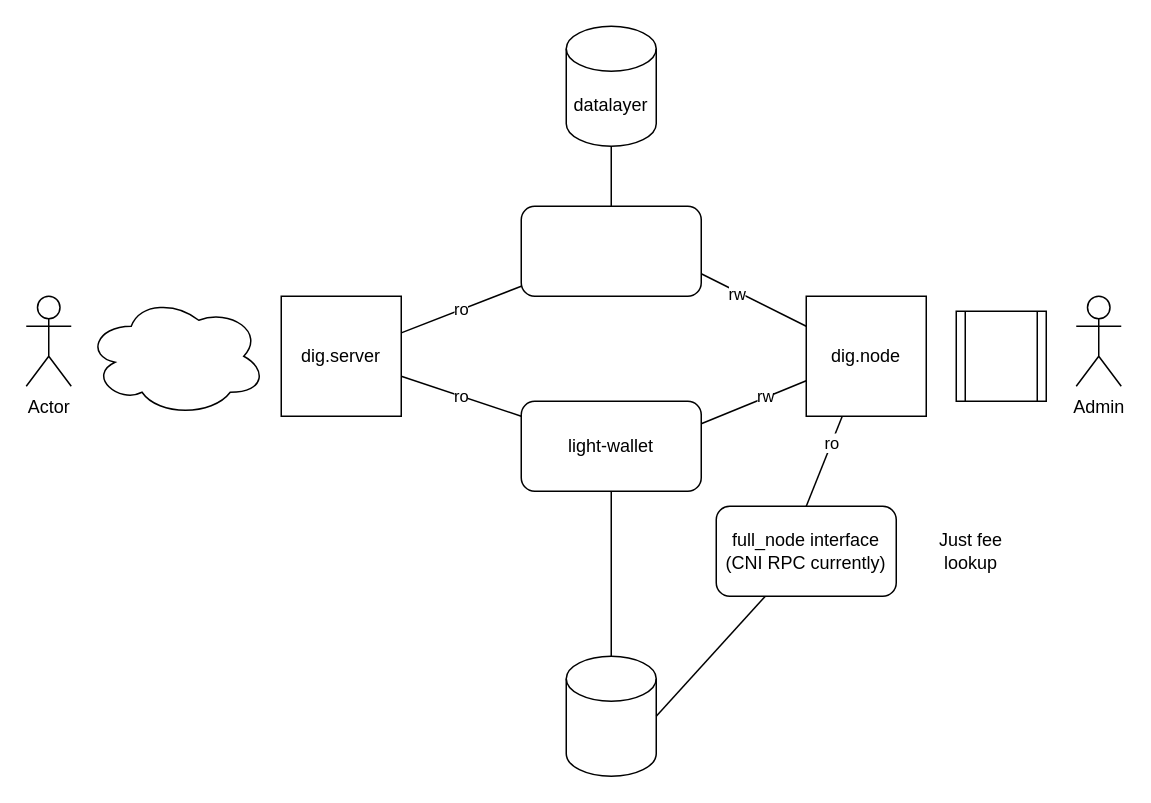
The diagram is 1151 pixels wide and 803 high, and some of its shapes have lost their labels. Each missing label, with the box of its shape:
datalayer-interface (CNI RPC currently): (520, 205, 701, 296)
fullnode: (565, 655, 656, 776)
internets: (85, 295, 266, 416)
terminal: (955, 310, 1046, 401)
